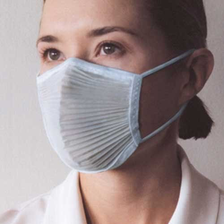mask: (36, 2, 188, 175)
